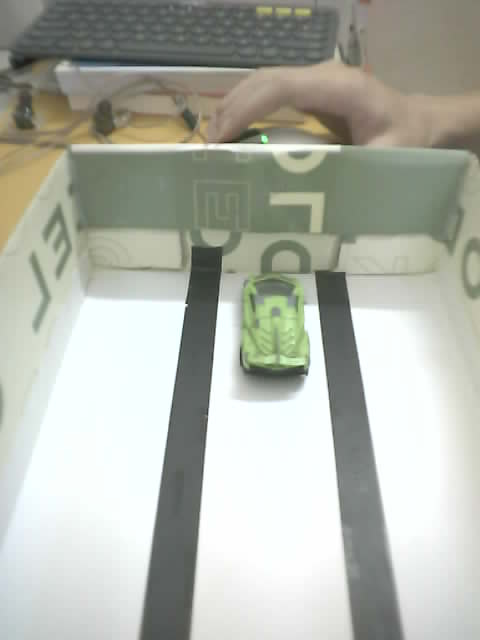vehicle: (224, 274, 310, 401)
